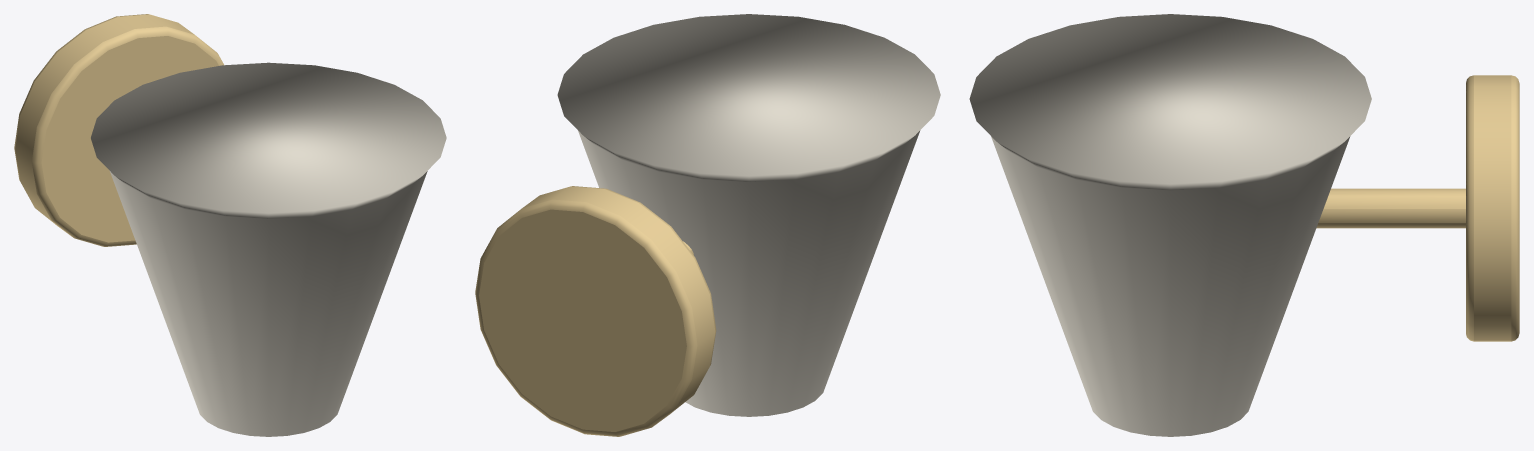
Rendered from dn_sconce.fbx.
3 renders of one model, left to right at view 1: azimuth 30°, elevation 25°; view 2: azimuth 150°, elevation 25°; view 3: azimuth 270°, elevation 25°, orthographic. The views are drawn at different scales.
Visible parts, largest first — view 1: SconceShade, Plate.001; view 2: SconceShade, Plate.001; view 3: SconceShade, Plate.001, Arm.001.
Boxes of the visible parts, x1,y1,x2,y2 form: SconceShade: (91,62,446,436); Plate.001: (14,14,223,246); SconceShade: (557,14,940,416); Plate.001: (475,186,716,436); SconceShade: (969,14,1371,436); Plate.001: (1466,75,1519,341); Arm.001: (1316,188,1465,228).
Bounding box in the file's own units: 0.15 × 0.13 × 0.205.
